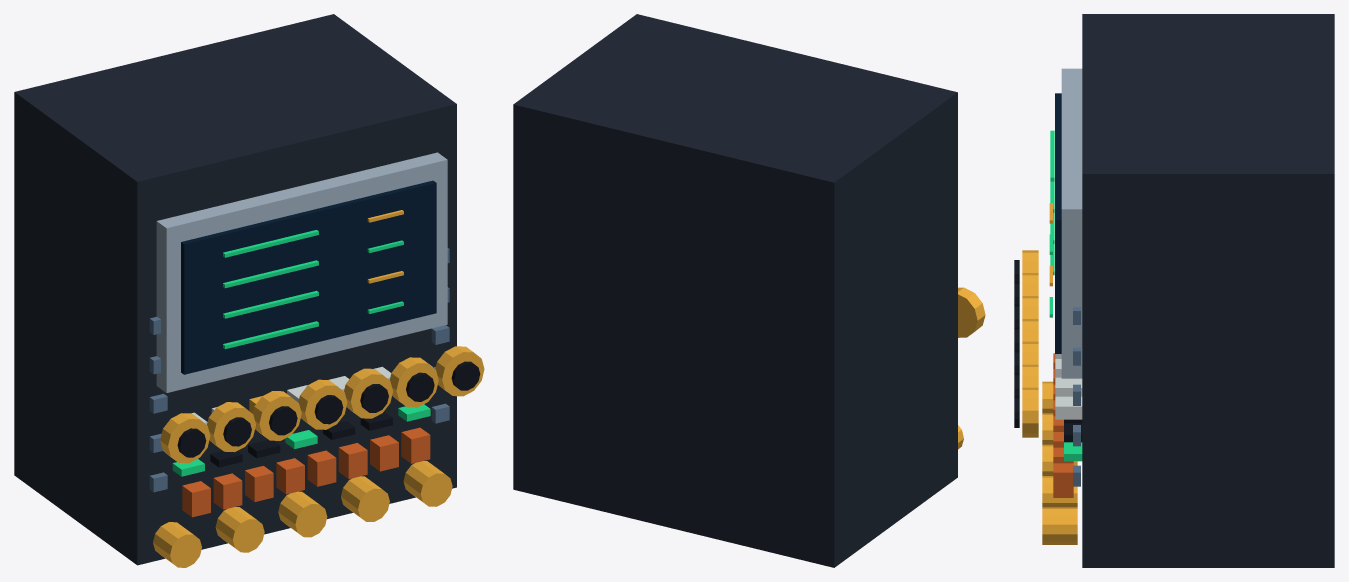
File: 73_L86_ContactForceSignalConditioner.fbx
The picture shows the model from 3 angles, left to right: view 1: azimuth 30°, elevation 25°; view 2: azimuth 150°, elevation 25°; view 3: azimuth 270°, elevation 25°; orthographic projection. The views are drawn at different scales.
Parts seen in each view (by area): view 1: L86_ContactForceSignalConditioner, L86_ContactForceSignalConditioner_Part_0009, L86_ContactForceSignalConditioner_Part_0021, L86_ContactForceSignalConditioner_Part_0019, L86_ContactForceSignalConditioner_Part_0011, L86_ContactForceSignalConditioner_Part_0017, L86_ContactForceSignalConditioner_Part_0013, L86_ContactForceSignalConditioner_Part_0015, L86_ContactForceSignalConditioner_Part_0012, L86_ContactForceSignalConditioner_Part_0022, L86_ContactForceSignalConditioner_Part_0010, L86_ContactForceSignalConditioner_Part_0014 (+3 smaller); view 2: L86_ContactForceSignalConditioner, L86_ContactForceSignalConditioner_Part_0009; view 3: L86_ContactForceSignalConditioner, L86_ContactForceSignalConditioner_Part_0021, L86_ContactForceSignalConditioner_Part_0009, L86_ContactForceSignalConditioner_Part_0019.
Part boxes in pixels (x1,y1,x2,y2): L86_ContactForceSignalConditioner: (14, 14, 456, 567); L86_ContactForceSignalConditioner_Part_0009: (160, 413, 210, 463); L86_ContactForceSignalConditioner_Part_0021: (435, 346, 484, 396); L86_ContactForceSignalConditioner_Part_0019: (389, 357, 438, 407); L86_ContactForceSignalConditioner_Part_0011: (207, 402, 255, 452); L86_ContactForceSignalConditioner_Part_0017: (344, 368, 392, 418); L86_ContactForceSignalConditioner_Part_0013: (252, 391, 301, 440); L86_ContactForceSignalConditioner_Part_0015: (298, 379, 347, 429); L86_ContactForceSignalConditioner_Part_0012: (223, 417, 251, 446); L86_ContactForceSignalConditioner_Part_0022: (451, 361, 480, 390); L86_ContactForceSignalConditioner_Part_0010: (177, 428, 206, 457); L86_ContactForceSignalConditioner_Part_0014: (269, 406, 297, 435); L86_ContactForceSignalConditioner: (513, 14, 963, 567); L86_ContactForceSignalConditioner_Part_0009: (958, 287, 985, 337); L86_ContactForceSignalConditioner: (1042, 14, 1334, 567); L86_ContactForceSignalConditioner_Part_0021: (1022, 387, 1038, 437); L86_ContactForceSignalConditioner_Part_0009: (1022, 250, 1038, 273); L86_ContactForceSignalConditioner_Part_0019: (1022, 364, 1038, 387).
Size of the model in its own units: 97.92 by 112 by 82.84.
